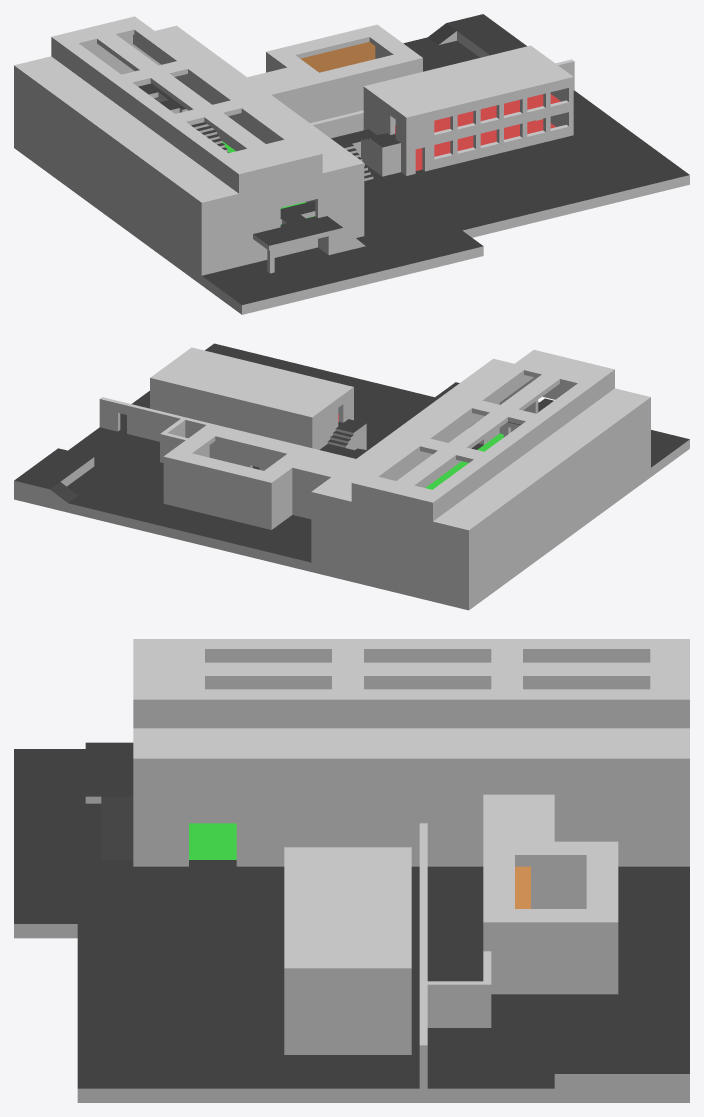
File: template_buildings.fbx
The picture shows the model from 3 angles, top to bottom: view 1: azimuth 30°, elevation 25°; view 2: azimuth 150°, elevation 25°; view 3: azimuth 270°, elevation 25°; orthographic projection. The views are drawn at different scales.
Parts seen in each view (by area): view 1: Plane.001; view 2: Plane.001; view 3: Plane.001.
Boxes of the visible parts, left/top/right/bottom form: Plane.001: left=14, top=14, right=689, bottom=314; Plane.001: left=14, top=343, right=689, bottom=610; Plane.001: left=14, top=639, right=689, bottom=1102.
Size of the model in its own units: 50.5 by 42.5 by 10.5.
